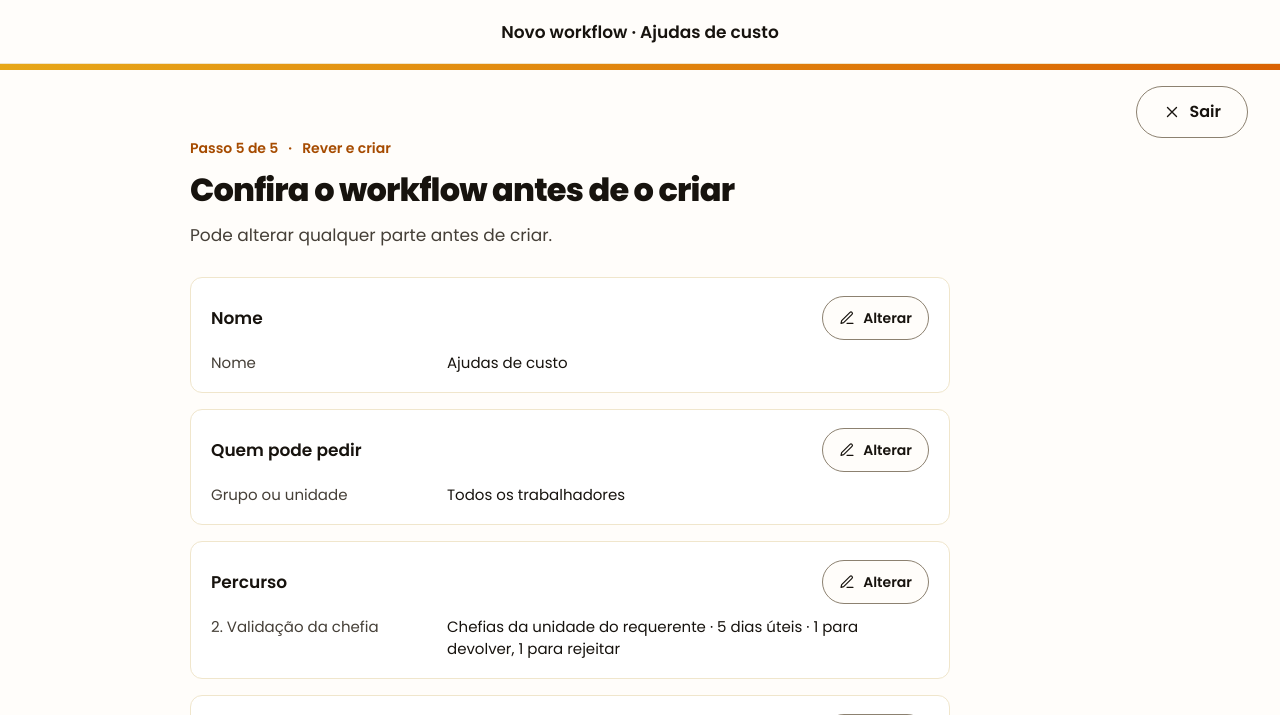
creating a workflow › goes back to the review after changing a part of it
The width and height of the screenshot is (1280, 715).
What coordinates should you click on to do the following:
click the button named "Alterar Nome"
I would click on:
 (876, 318)
Its box is [822,296,929,340].
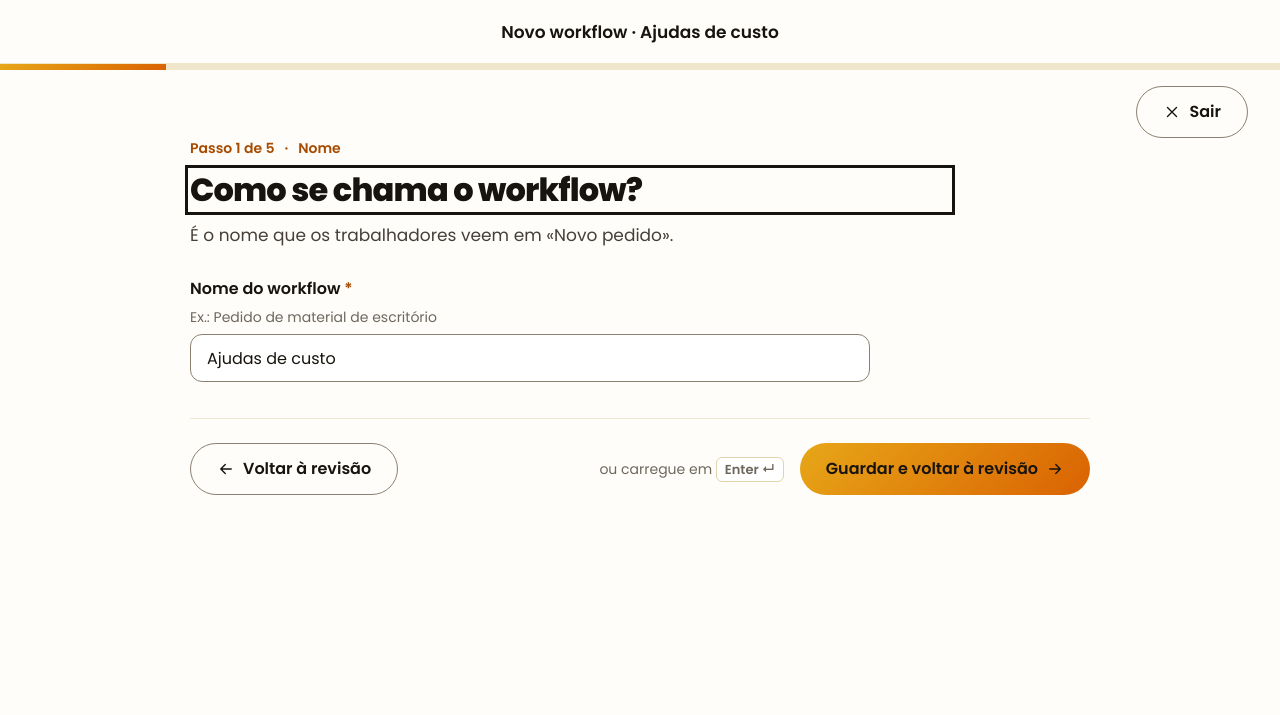
Now the heading "Como se chama o workflow?" is shown, box [190,170,950,210]
What coordinates should you click on to do the following:
click the button "Guardar e voltar à revisão"
I would click on:
 (945, 469)
Its box is [800,443,1090,495].
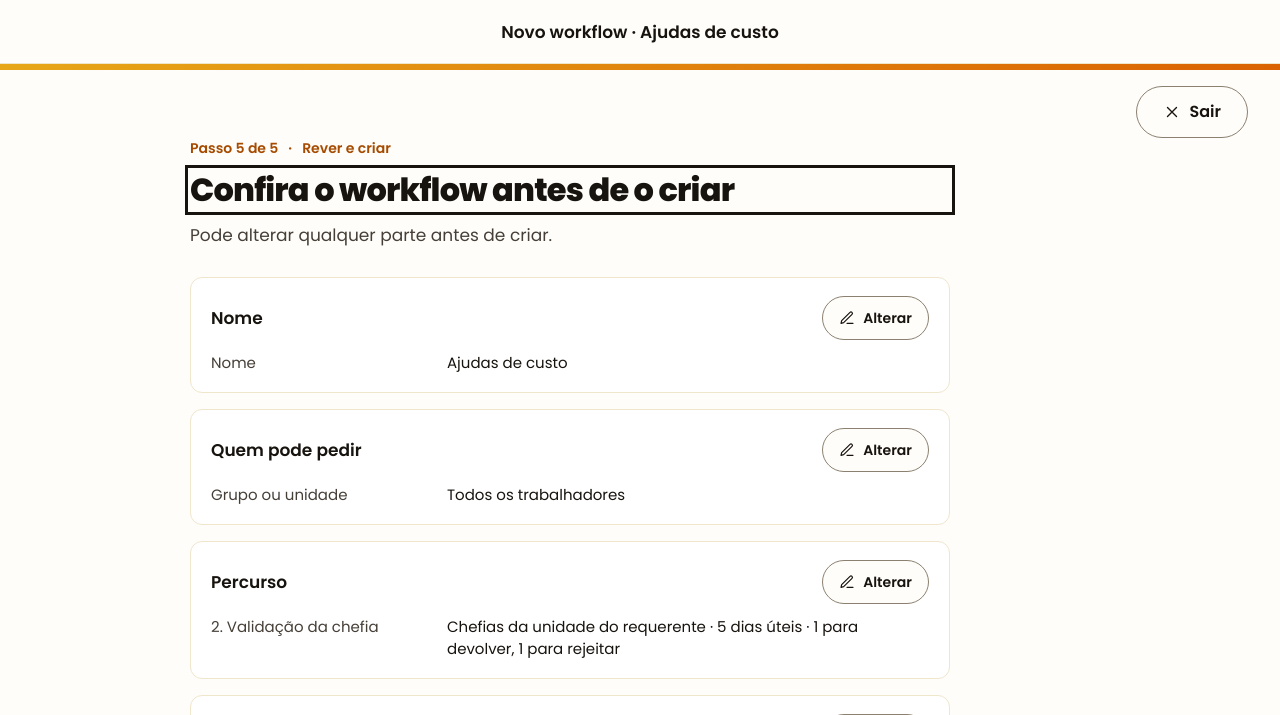
Now the heading "Confira o workflow antes de o criar" is shown, box [190,170,950,210]
